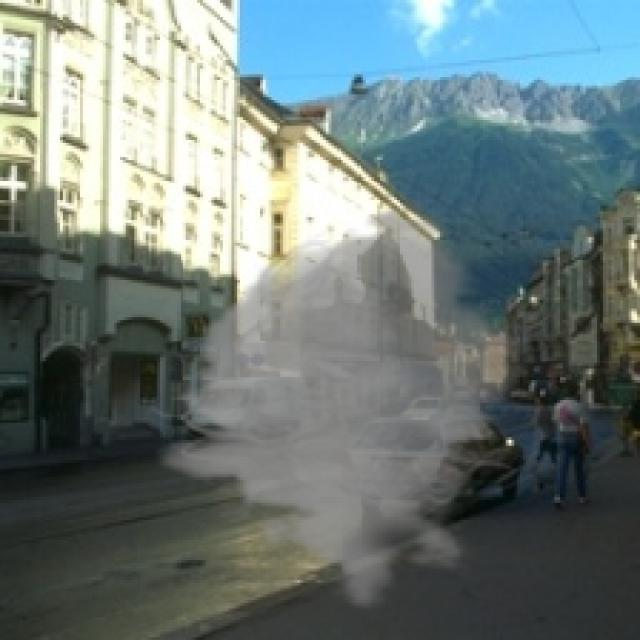Smoke: (143, 206, 560, 612)
